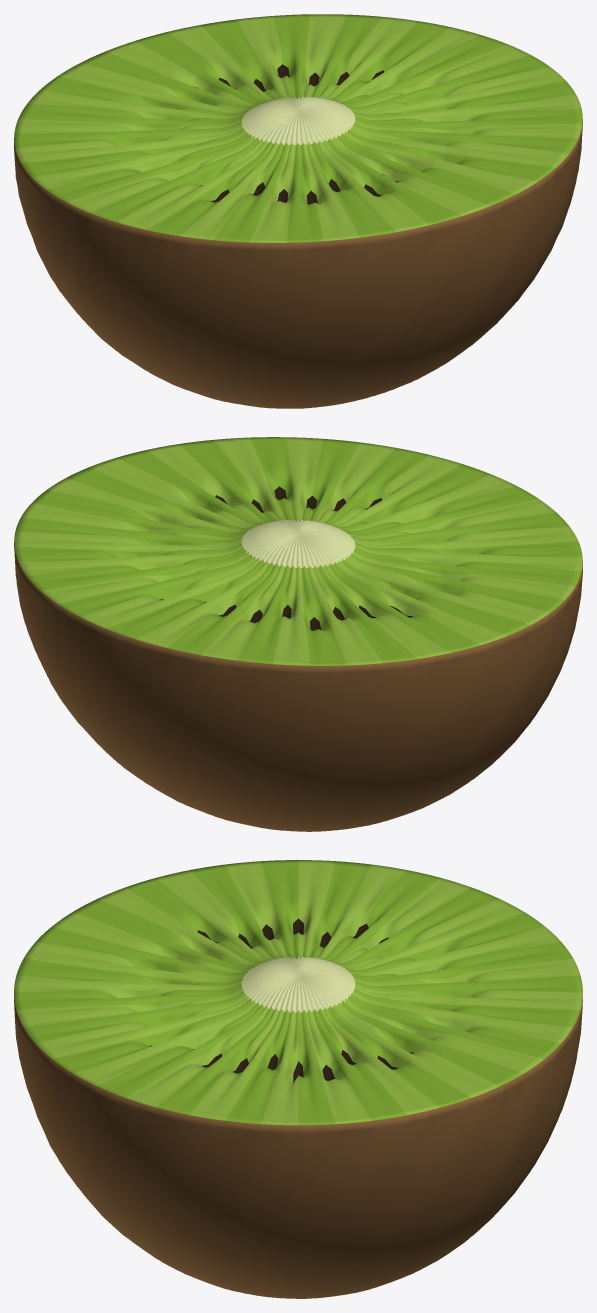
3 renders of one model, top to bottom at view 1: azimuth 30°, elevation 25°; view 2: azimuth 150°, elevation 25°; view 3: azimuth 270°, elevation 25°, orthographic. The views are drawn at different scales.
Parts seen in each view (by area): view 1: NEW334_KiwiHalf_LOD1; view 2: NEW334_KiwiHalf_LOD1; view 3: NEW334_KiwiHalf_LOD1.
Boxes of the visible parts, bbox=[...] form: NEW334_KiwiHalf_LOD1: bbox=[14, 14, 582, 408]; NEW334_KiwiHalf_LOD1: bbox=[14, 437, 582, 831]; NEW334_KiwiHalf_LOD1: bbox=[14, 860, 582, 1298].
Bounding box in the file's own units: 0.0641 × 0.0333 × 0.058.
